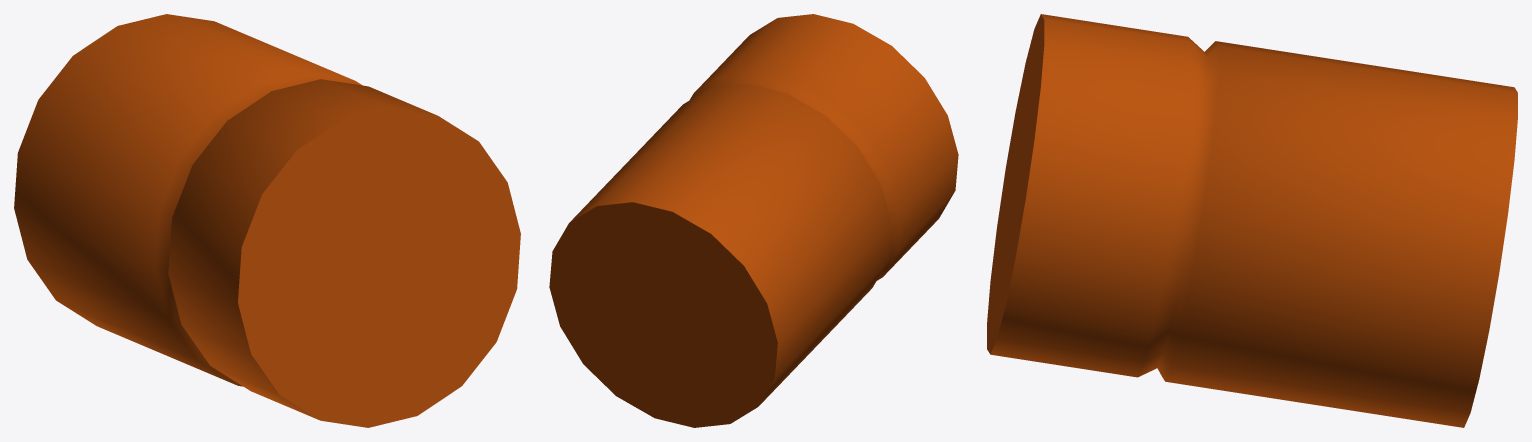
File: Slug.FBX
3 views of the same model, side by side, from view 1: azimuth 30°, elevation 25°; view 2: azimuth 150°, elevation 25°; view 3: azimuth 270°, elevation 25° (orthographic). The views are drawn at different scales.
Visible parts, largest first — view 1: Slug; view 2: Slug; view 3: Slug.
Part boxes in pixels (left/top/right/bottom): Slug: left=14, top=14, right=520, bottom=427; Slug: left=549, top=14, right=958, bottom=427; Slug: left=987, top=14, right=1517, bottom=427.
Size of the model in its own units: 5.85 by 7.04 by 8.98.
